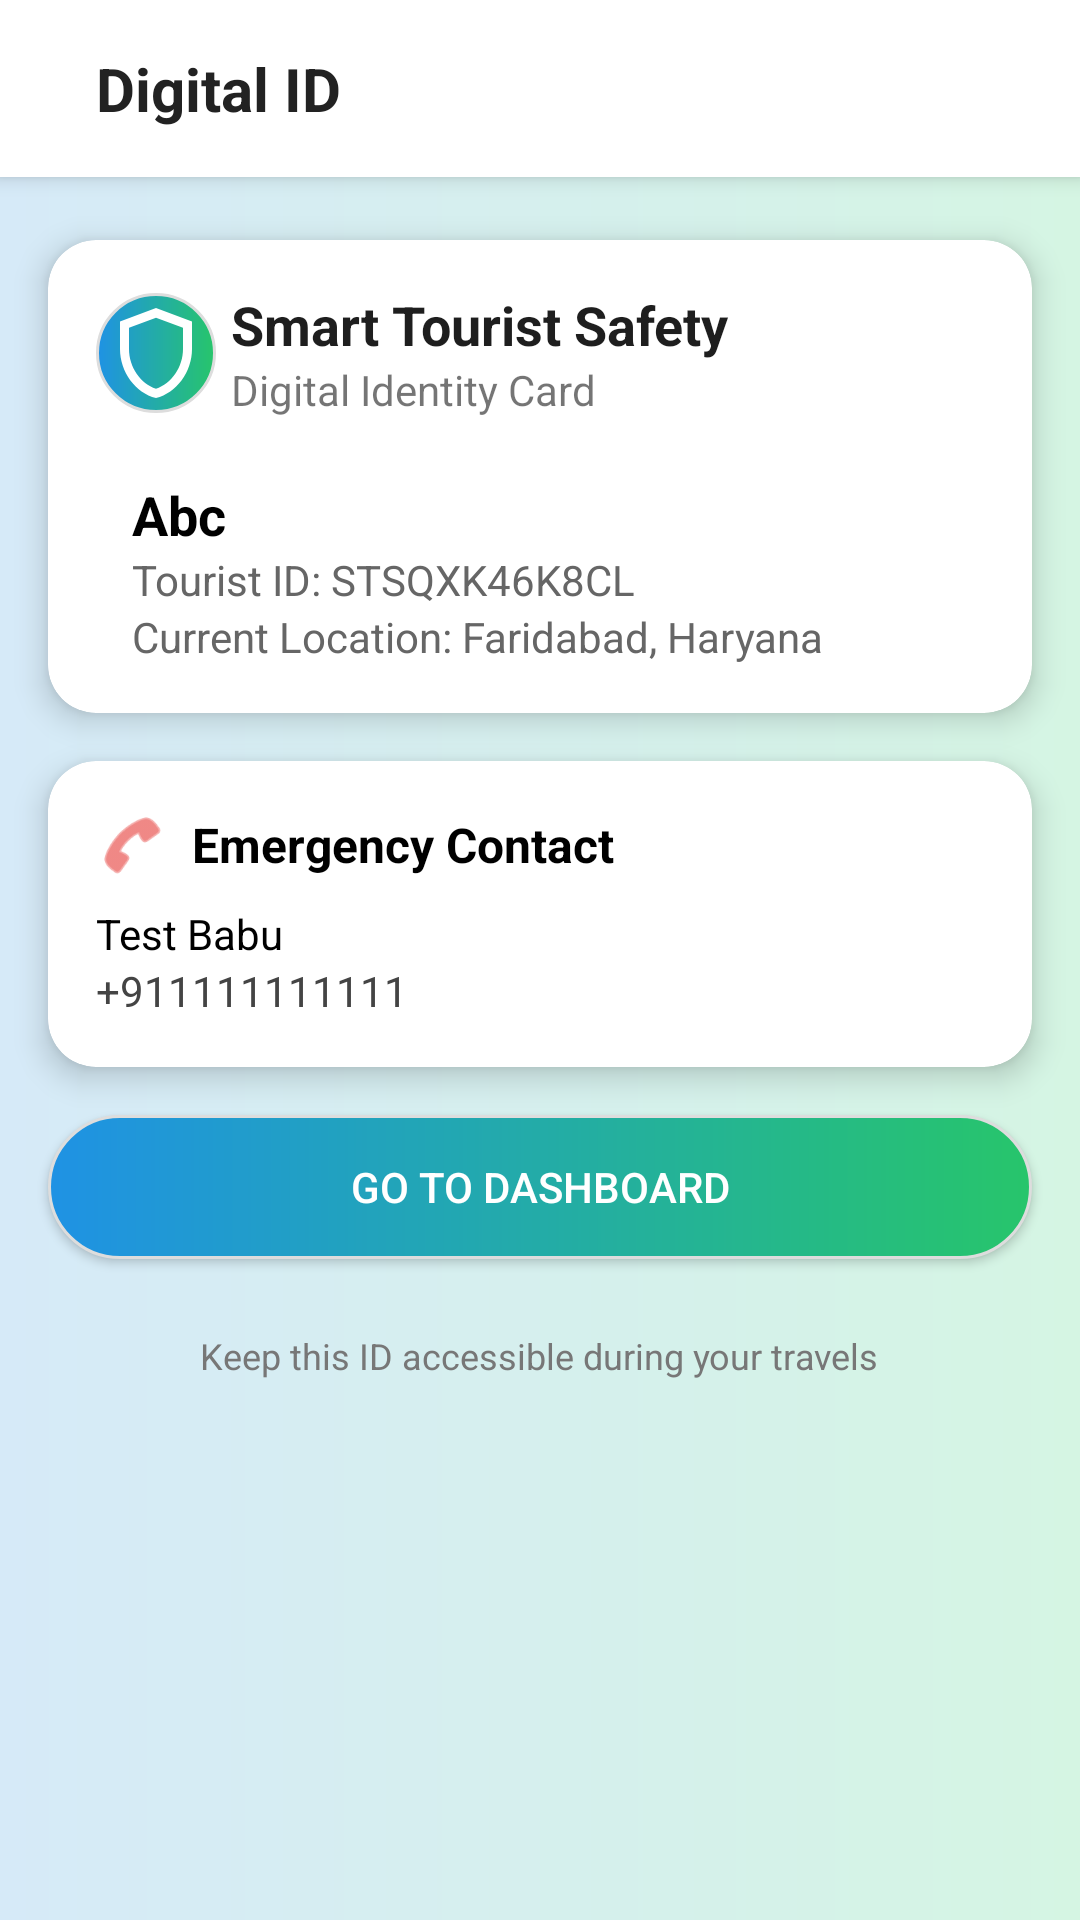

Named icons in this screenshot (1080px x 1920px) and their centers, [x,y]:
call: [132,845]
shield: [156,353]
